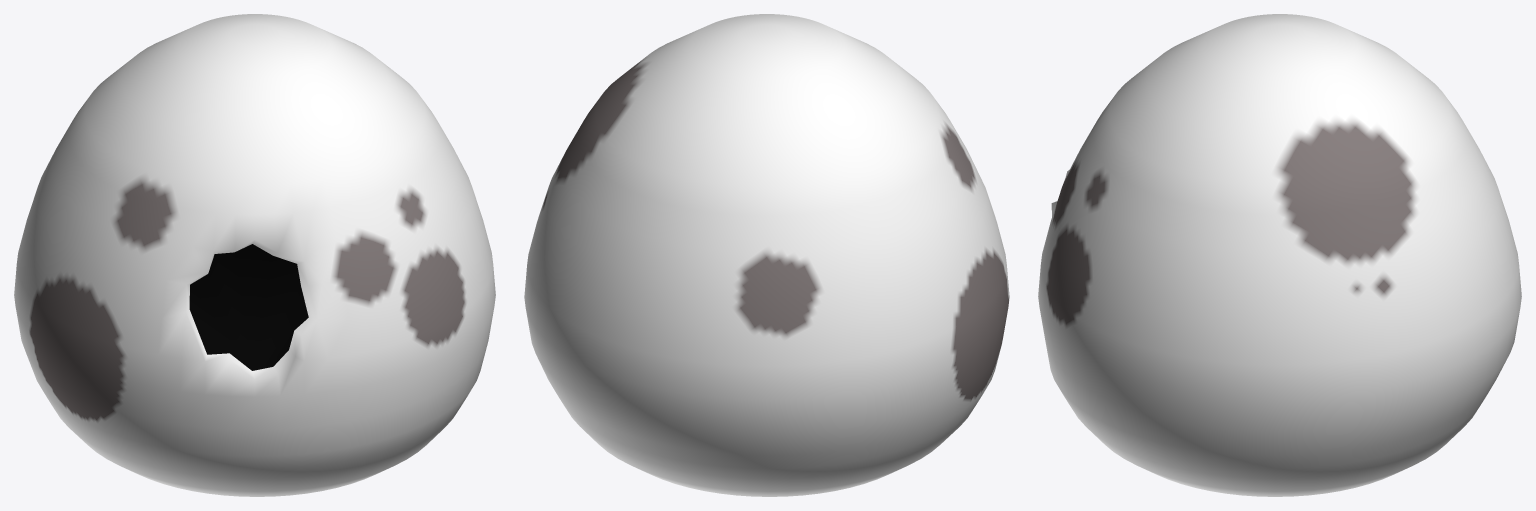
Rendered from HuevoRoto2.fbx.
3 renders of one model, left to right at view 1: azimuth 30°, elevation 25°; view 2: azimuth 150°, elevation 25°; view 3: azimuth 270°, elevation 25°, orthographic.
Visible parts, largest first — view 1: Huevo.001; view 2: Huevo.001; view 3: Huevo.001.
Part boxes in pixels (x1=…): Huevo.001: x1=14, y1=14, x2=495, y2=496; Huevo.001: x1=524, y1=14, x2=1009, y2=496; Huevo.001: x1=1038, y1=14, x2=1521, y2=496.
Bounding box in the file's own units: 8825 × 8825 × 8350.
Materials: 2 (1 with a texture image).
